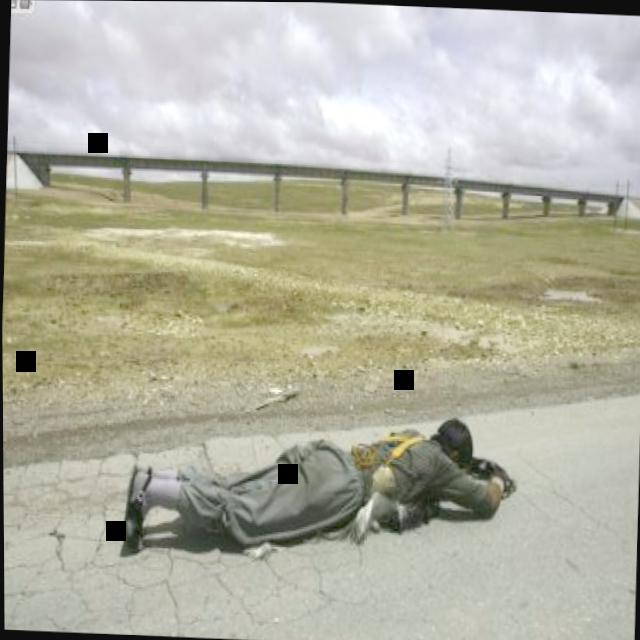Fall-Detected: (121, 397, 524, 569)
